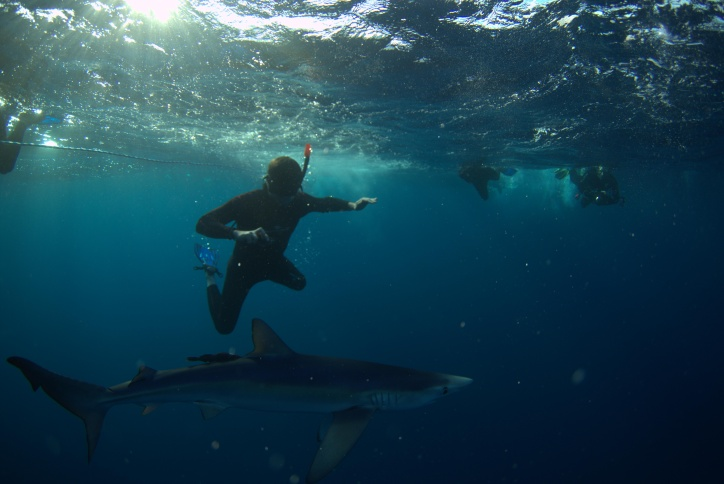Azul: (1, 310, 511, 483)
